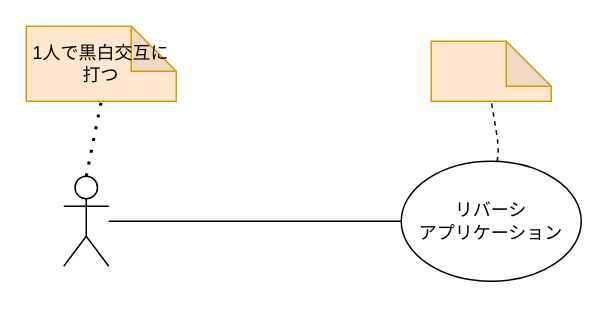
The diagram is 608 pixels wide and 324 high, and some of its shapes have lost their labels. The shapes that lost their labels are listed below. From the top down, each one's box as (x1, y1, x2, y2) in pixels, then its label:
(430, 40, 551, 101): Webアプリ
(62, 175, 109, 266): プレイヤー
